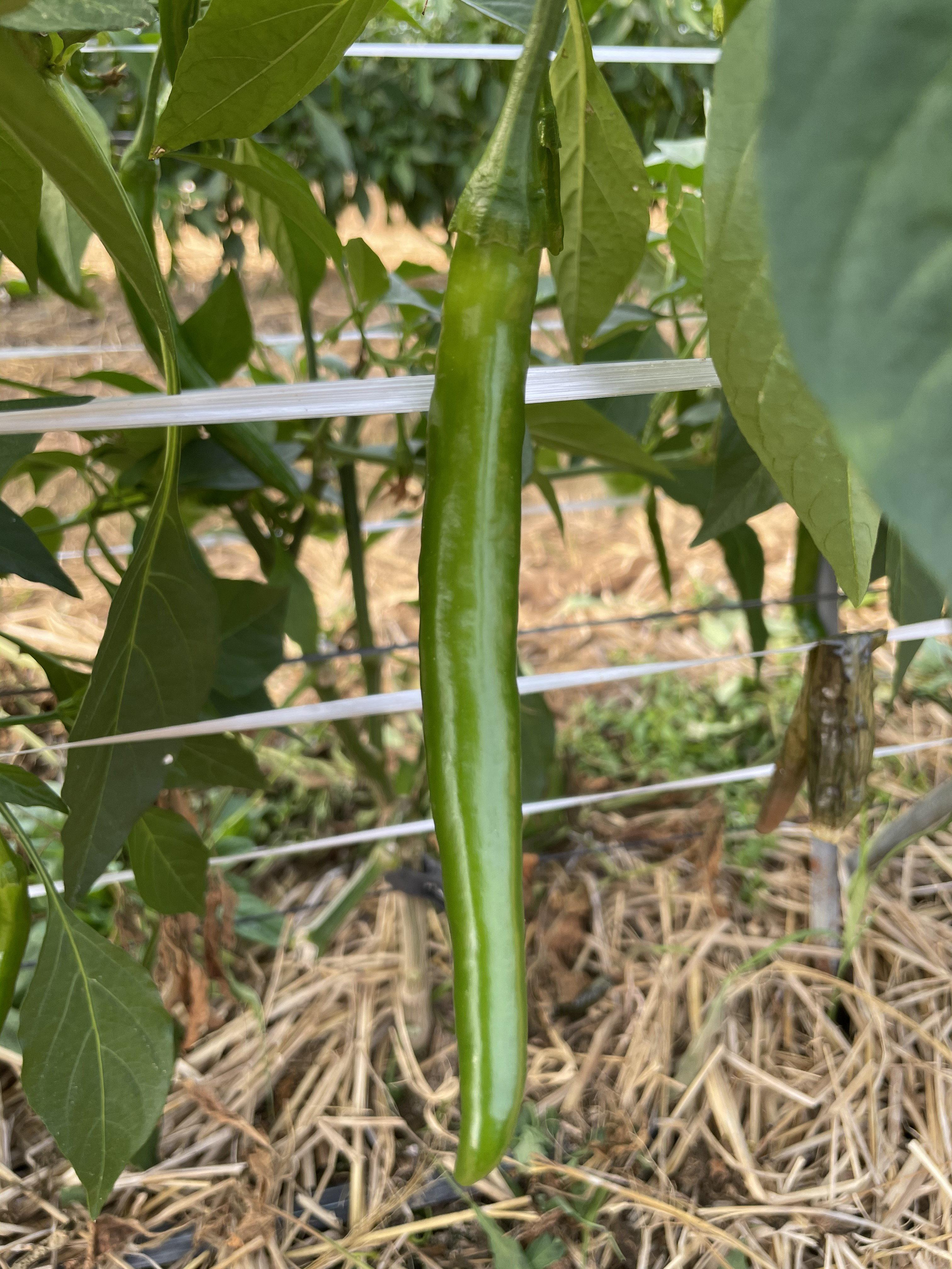Buah Cabai Sehat: (414, 133, 568, 1187)
